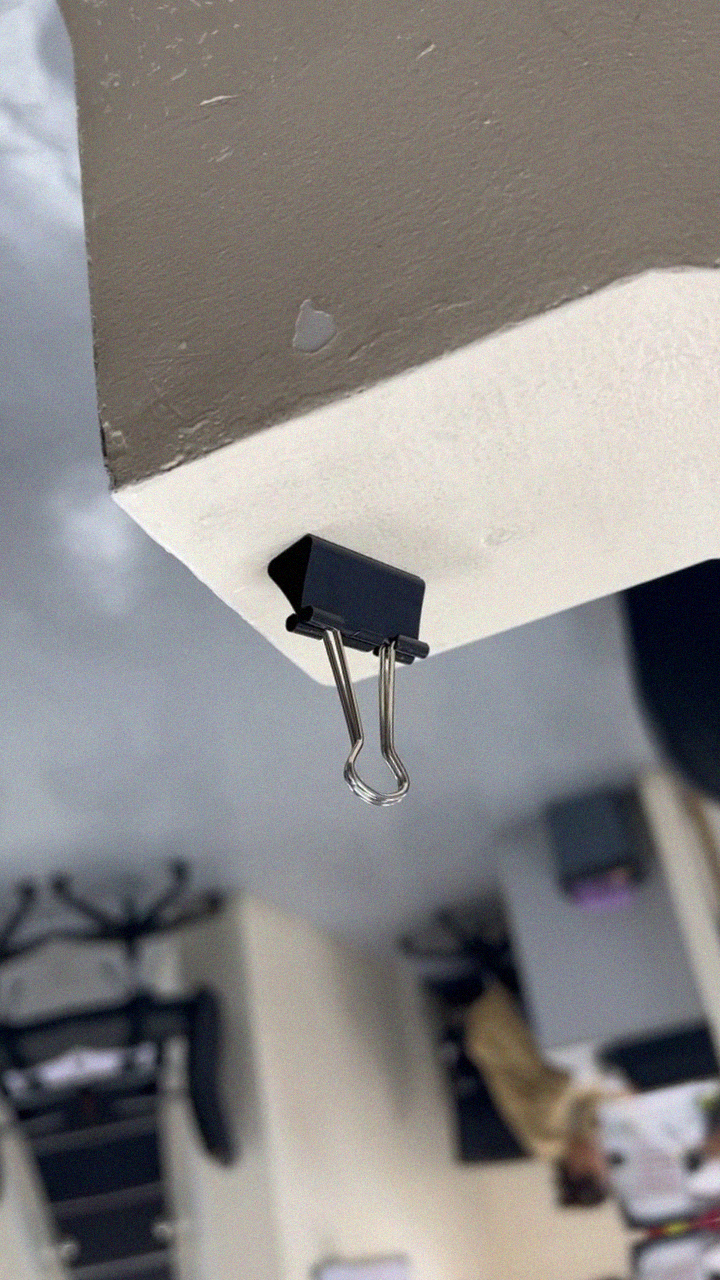kep_giay: (252, 505, 479, 823)
